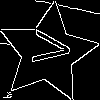V: (23, 28, 72, 67)
